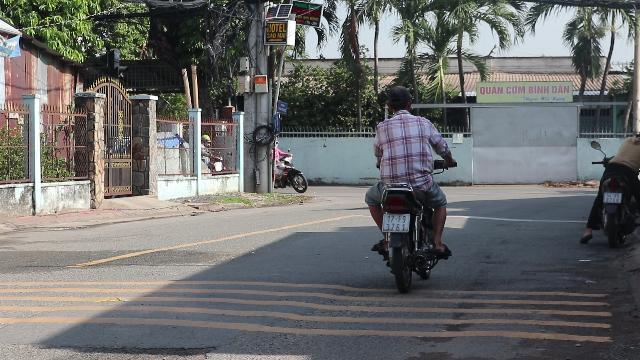licenseplate: (383, 214, 409, 232), (603, 192, 621, 202)
motorcyclist: (362, 85, 456, 284), (582, 129, 640, 245)
nohelmet: (383, 85, 412, 115)
